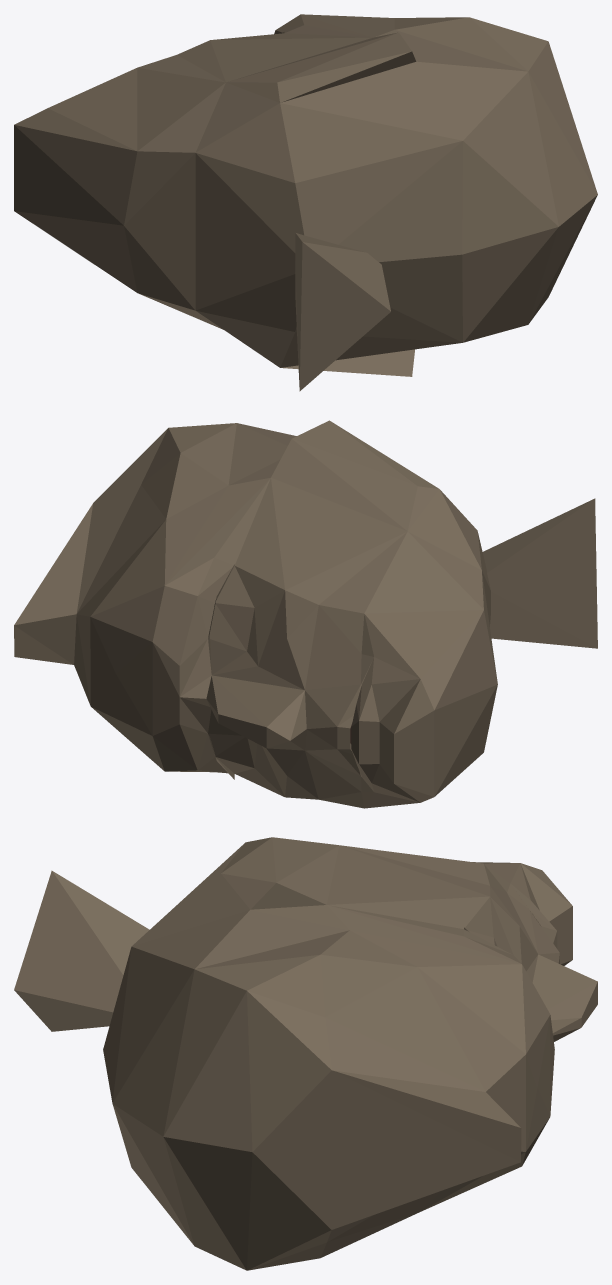
File: HUM_HEAD_THIEF.OBJ
The picture shows the model from 3 angles, top to bottom: view 1: azimuth 30°, elevation 25°; view 2: azimuth 150°, elevation 25°; view 3: azimuth 270°, elevation 25°; orthographic projection. The views are drawn at different scales.
Parts seen in each view (by area): view 1: HUM_HEAD_THIEF; view 2: HUM_HEAD_THIEF; view 3: HUM_HEAD_THIEF.
Boxes of the visible parts, x1,y1,x2,y2 form: HUM_HEAD_THIEF: (14, 14, 597, 391); HUM_HEAD_THIEF: (14, 420, 597, 808); HUM_HEAD_THIEF: (14, 837, 597, 1270).
Size of the model in its own units: 0.2642 by 0.187 by 0.2779.
